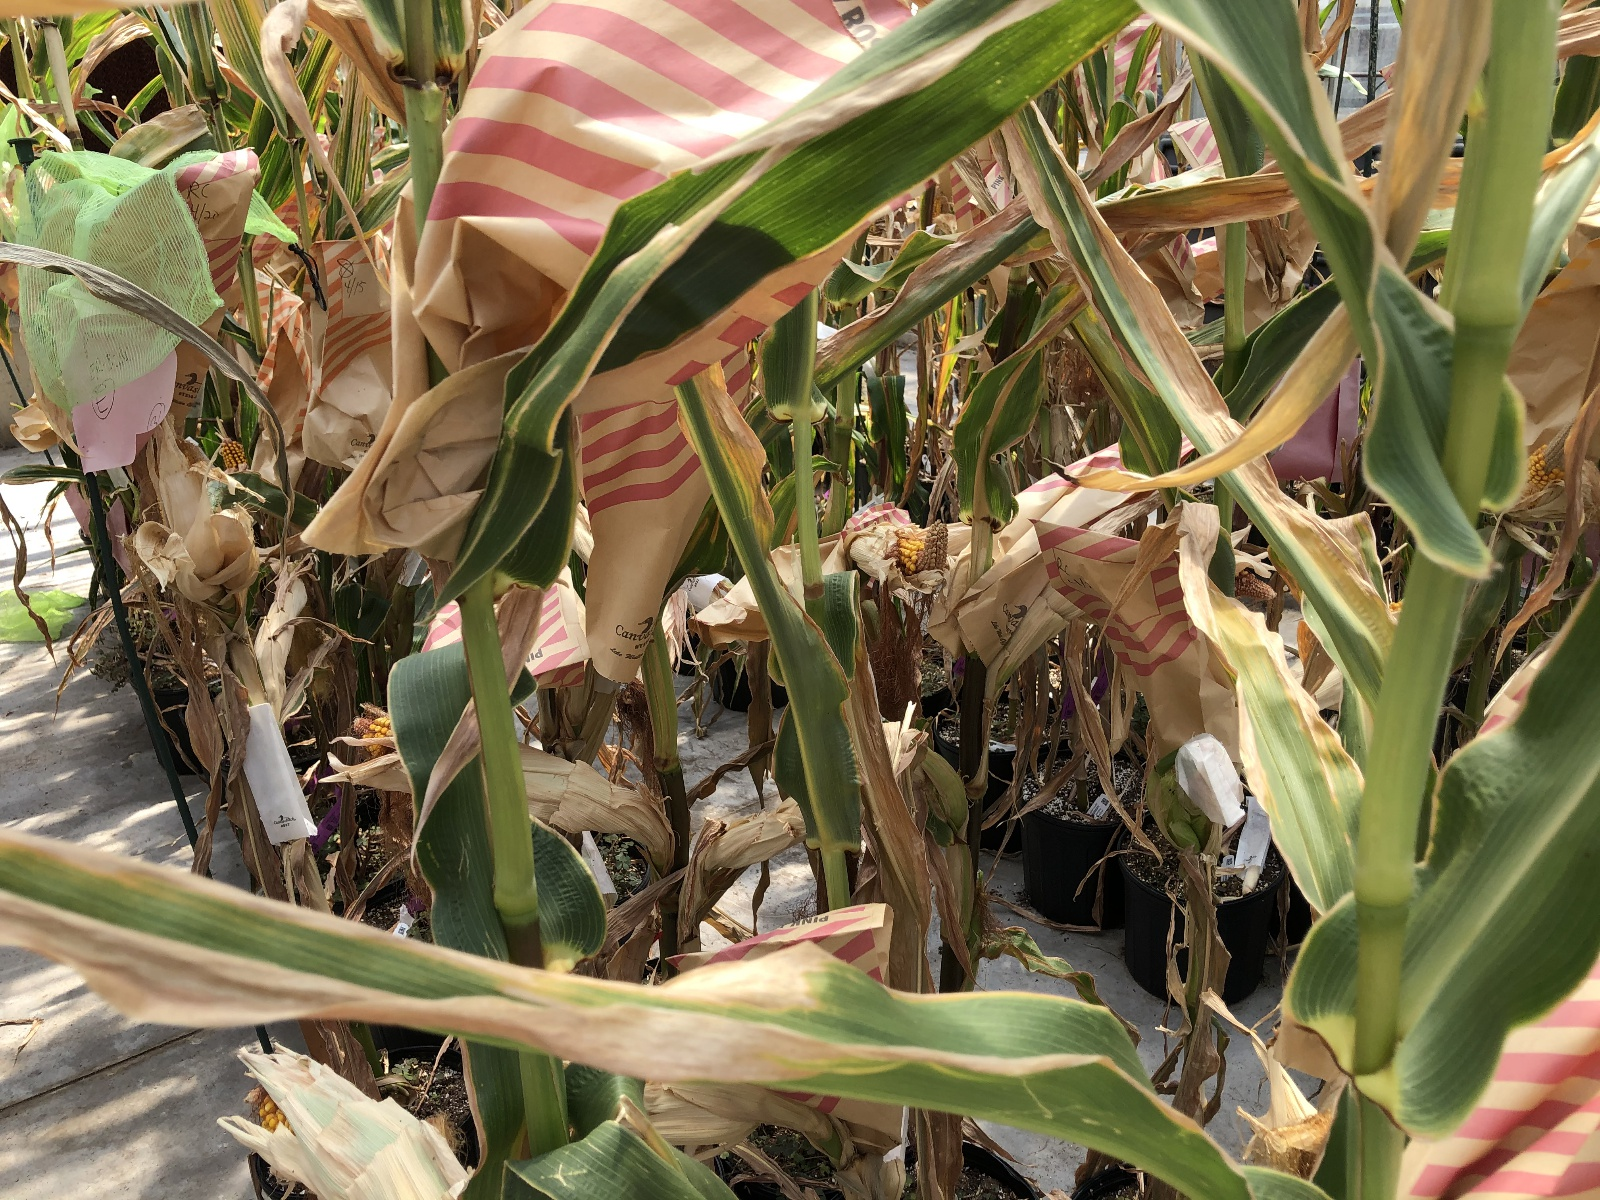ear: (348, 705, 609, 817), (241, 1044, 396, 1189), (855, 513, 952, 576), (1519, 408, 1587, 498), (1227, 561, 1280, 604), (219, 431, 249, 476)
